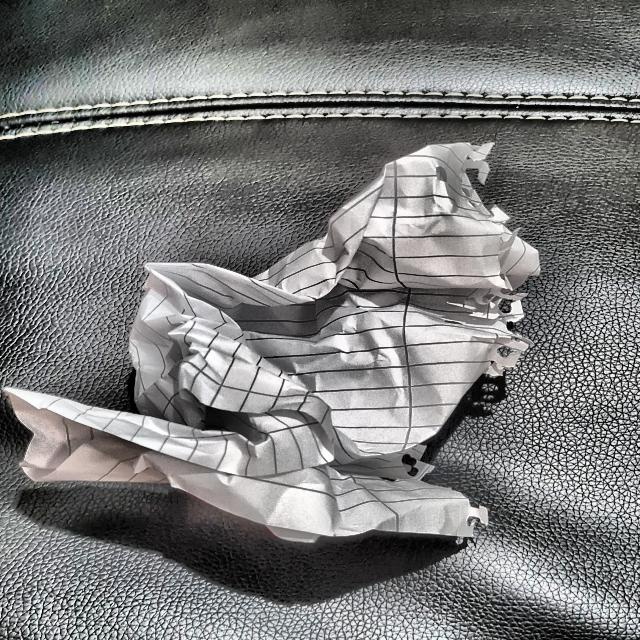paper: (15, 144, 541, 557)
